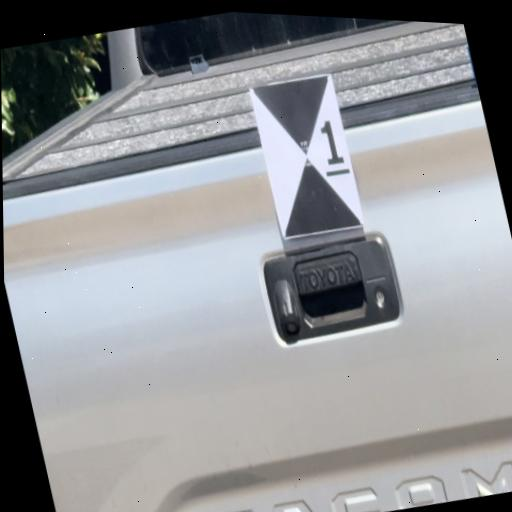target1: (248, 72, 364, 243)
